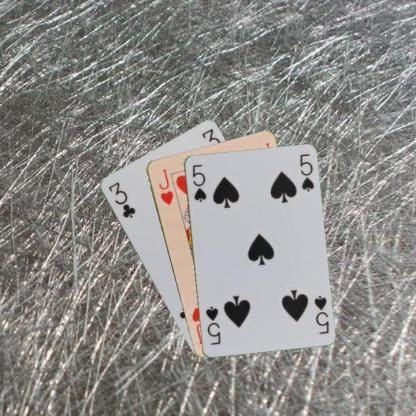3c: (106, 179, 136, 220)
5s: (311, 292, 330, 335), (190, 162, 208, 204)
Jh: (156, 166, 174, 206)
